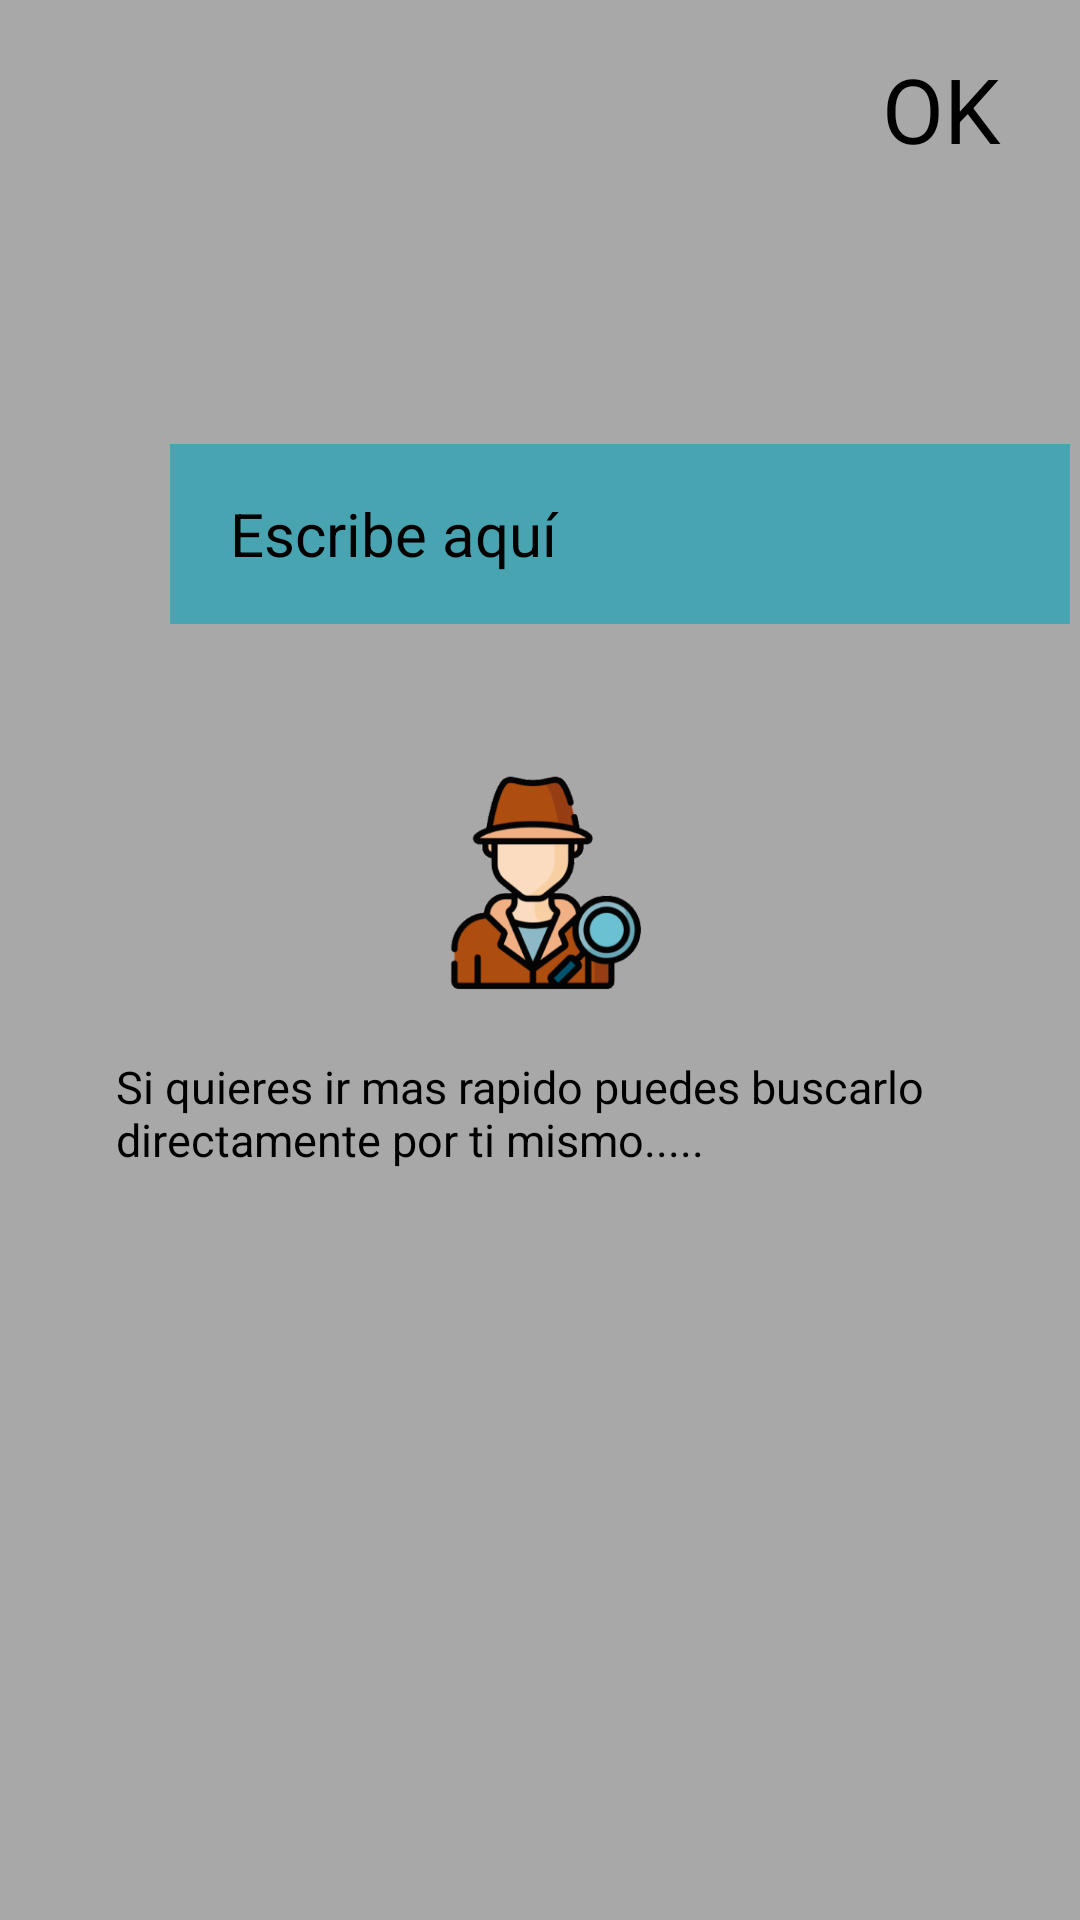

Point at icon controls on the screen. Image size 1080px×1920px, points as (x=x, y=y).
detective: (x=546, y=882)
